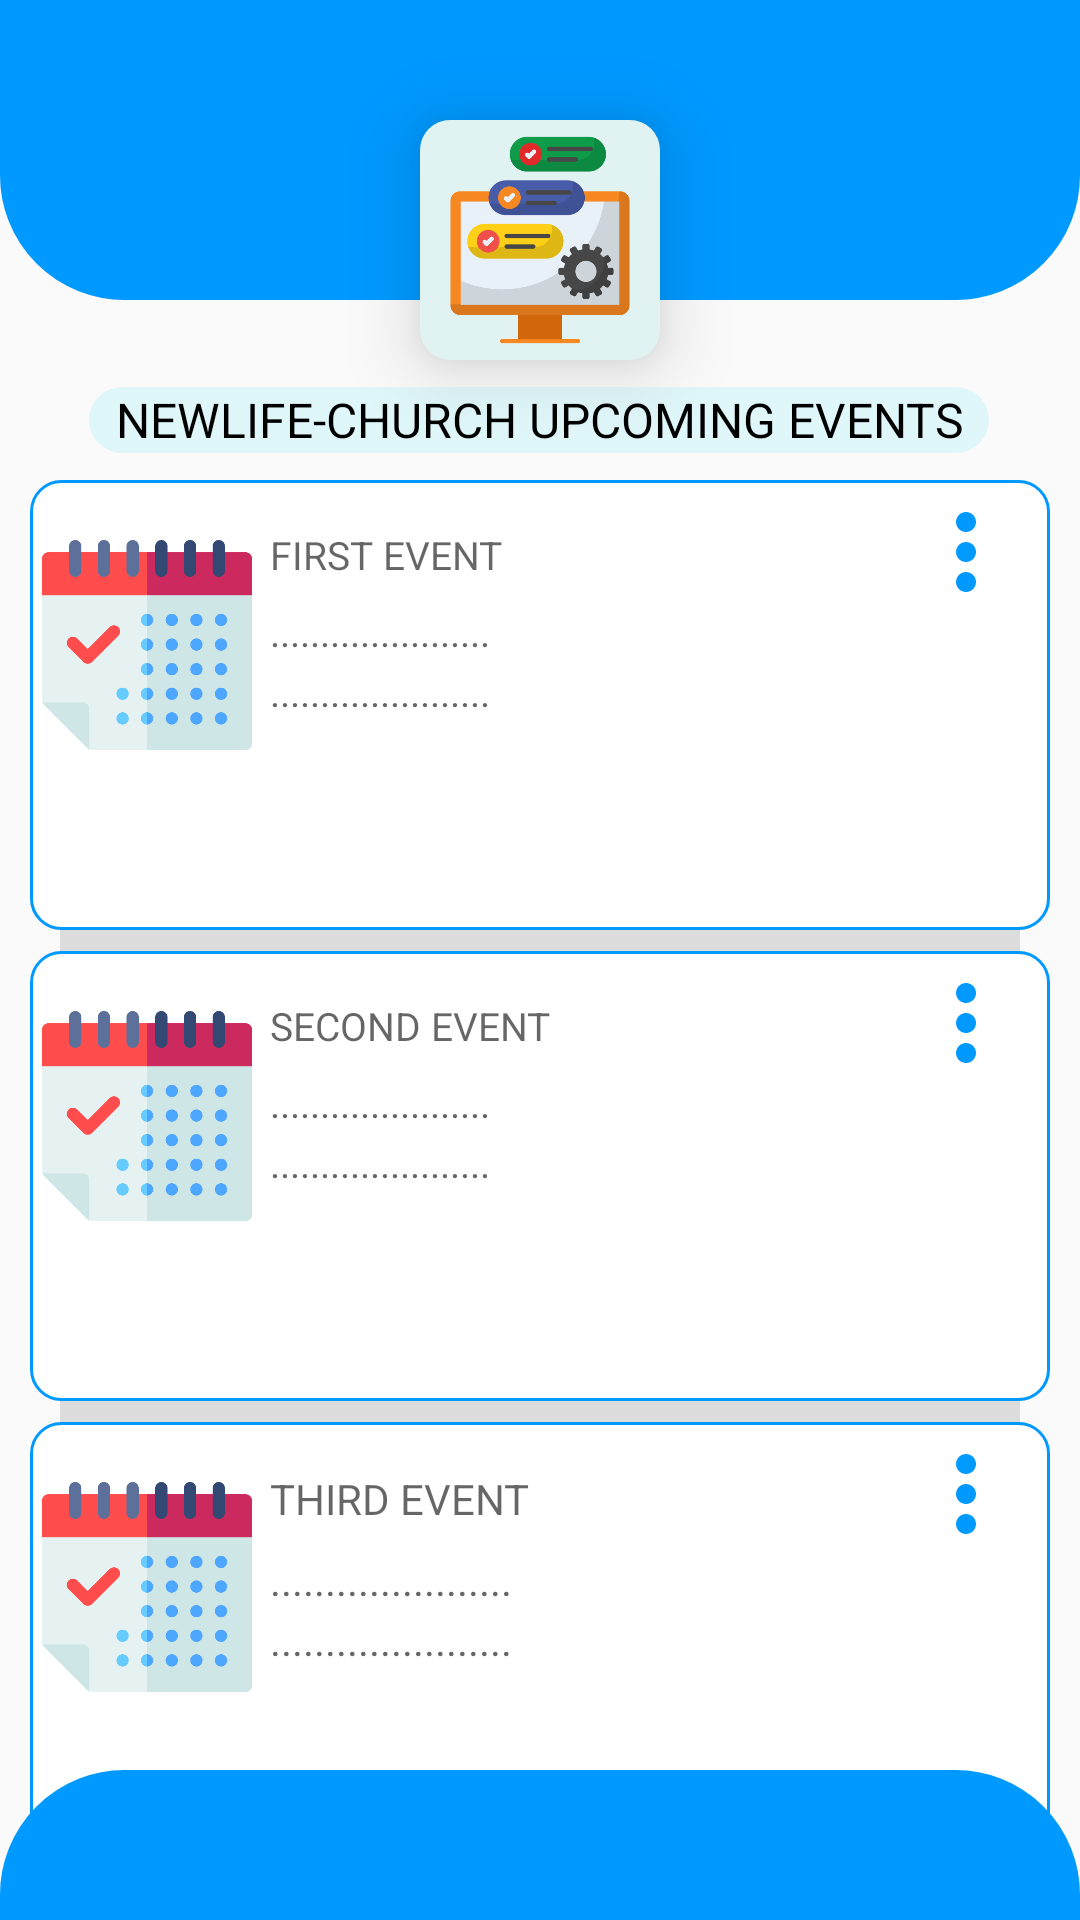

Named icons in this screenshot (1080 × 1920) and their bounding boxes, box=[x1, y1, x2, y2]:
four calendar: box=[42, 540, 252, 750], box=[42, 1011, 252, 1221], box=[42, 1482, 252, 1692]
options: box=[956, 512, 976, 592], box=[956, 983, 976, 1063], box=[956, 1454, 976, 1534]
